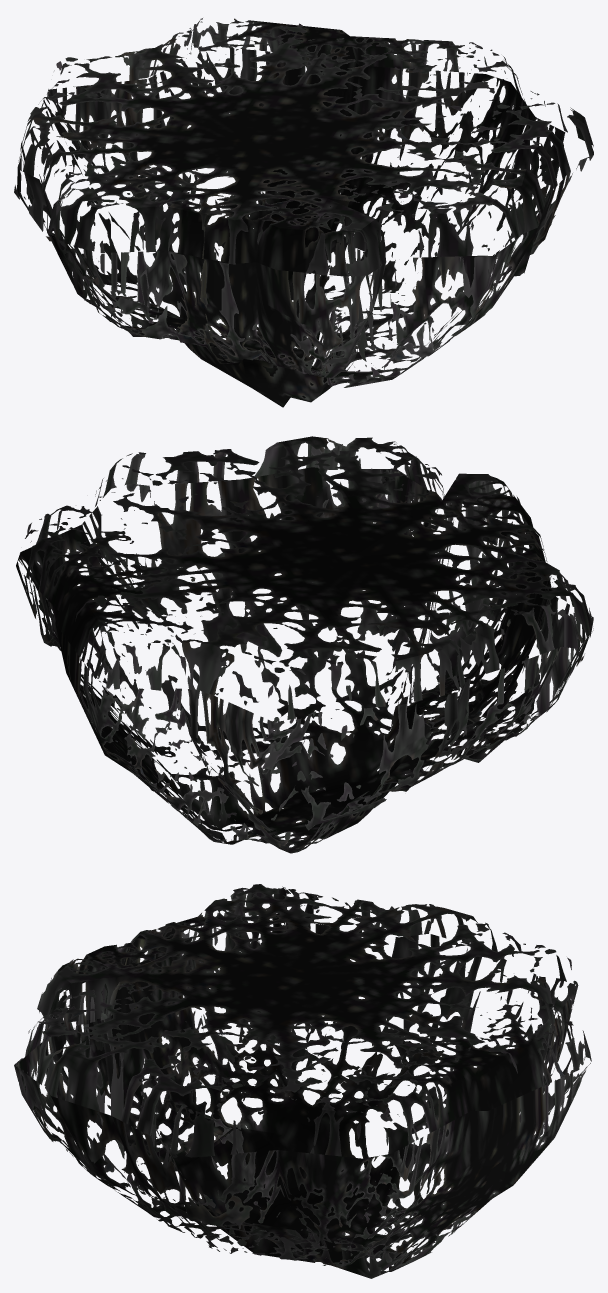
Rendered from songbird_fusion_rodeo_venom.glb.
3 renders of one model, top to bottom at view 1: azimuth 30°, elevation 25°; view 2: azimuth 150°, elevation 25°; view 3: azimuth 270°, elevation 25°, orthographic. The views are drawn at different scales.
Parts seen in each view (by area): view 1: songbird_fusion_rodeo_venom_0; view 2: songbird_fusion_rodeo_venom_0; view 3: songbird_fusion_rodeo_venom_0.
Part boxes in pixels (bbox=[...]): songbird_fusion_rodeo_venom_0: bbox=[14, 18, 593, 407]; songbird_fusion_rodeo_venom_0: bbox=[16, 436, 593, 853]; songbird_fusion_rodeo_venom_0: bbox=[14, 884, 591, 1278].
Size of the model in its own units: 95.79 by 47.18 by 95.16.
1 material, 1 textured.
